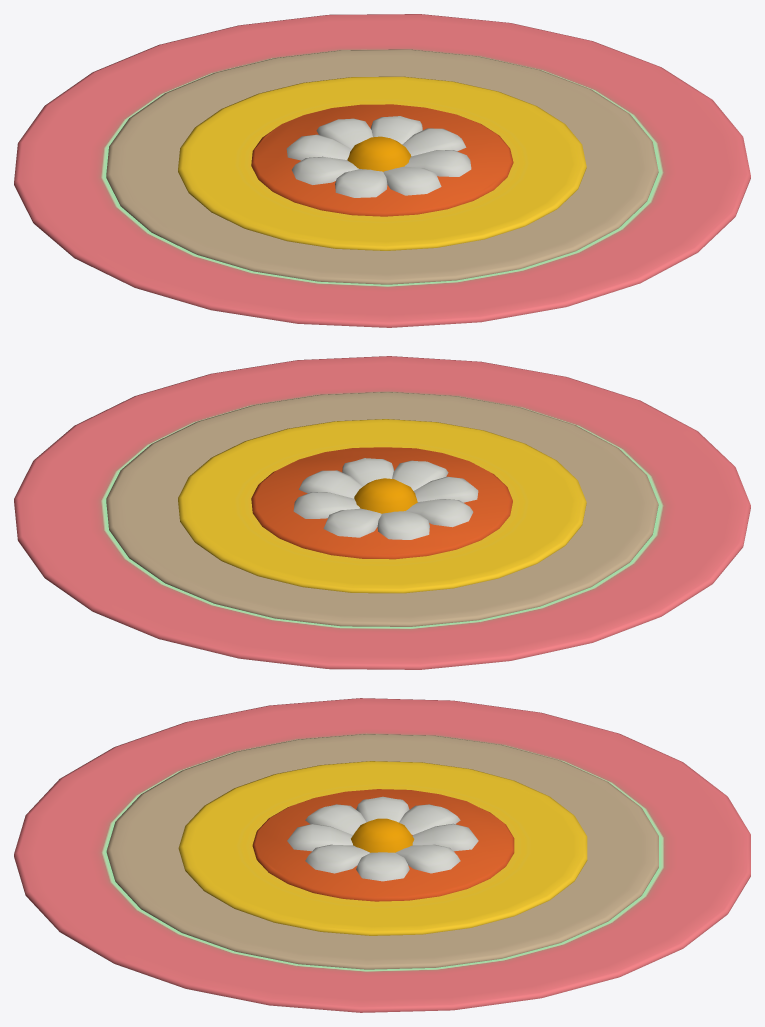
File: carpet1.fbx
3 renders of one model, top to bottom at view 1: azimuth 30°, elevation 25°; view 2: azimuth 150°, elevation 25°; view 3: azimuth 270°, elevation 25°, orthographic.
Parts seen in each view (by area): view 1: carpet1; view 2: carpet1; view 3: carpet1.
Part boxes in pixels (x1=…): carpet1: x1=14, y1=14, x2=750, y2=327; carpet1: x1=14, y1=356, x2=750, y2=669; carpet1: x1=14, y1=698, x2=750, y2=1012.
Bounding box in the file's own units: 1.63 × 0.0752 × 1.63.
